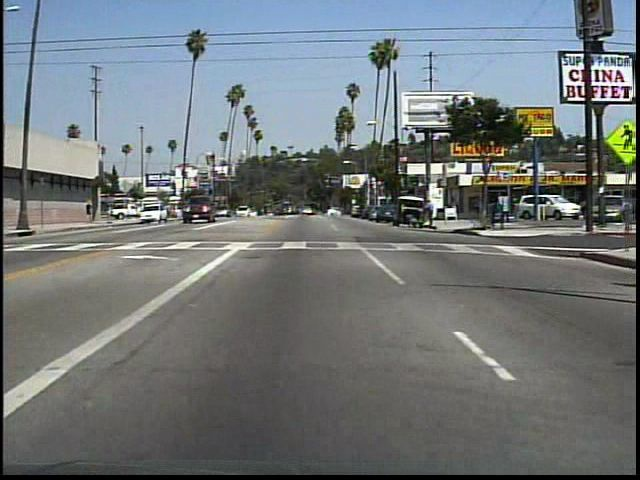person: (425, 197, 438, 231), (469, 193, 483, 221), (407, 213, 424, 231), (85, 199, 94, 227)
